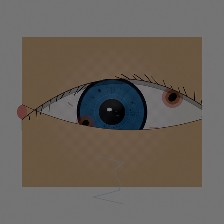foreign_body_visible: (148, 78, 197, 117)
